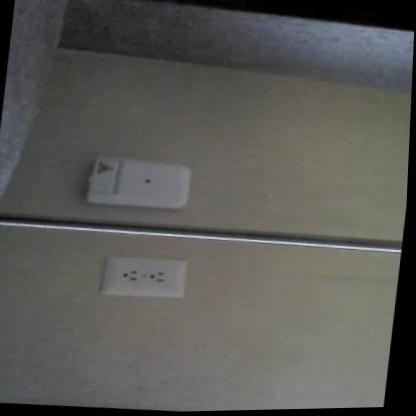OUTLET: (98, 254, 190, 301)
